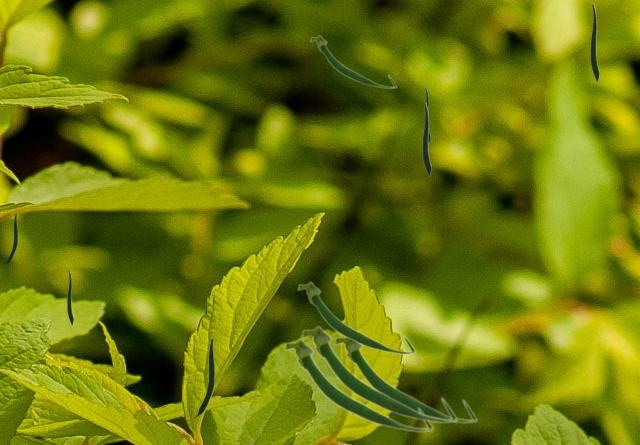french_bean: (299, 325, 457, 423), (282, 338, 433, 432), (332, 336, 477, 423), (296, 281, 415, 354), (309, 34, 396, 88), (194, 338, 213, 416), (590, 3, 598, 81), (4, 213, 16, 264), (422, 102, 430, 175), (424, 87, 429, 142), (67, 269, 72, 324)
